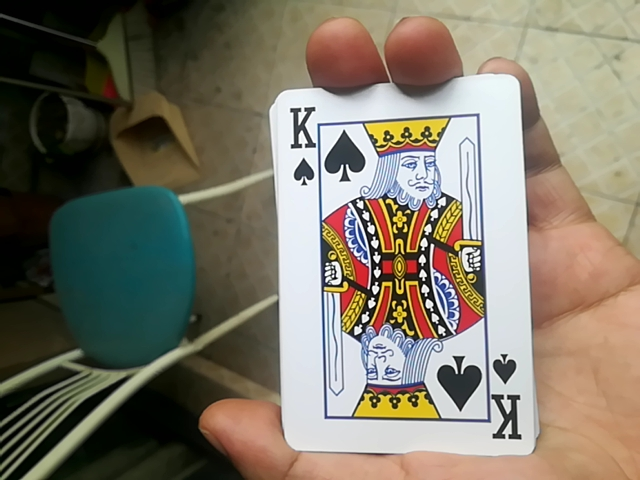ht k: (273, 75, 531, 457)
